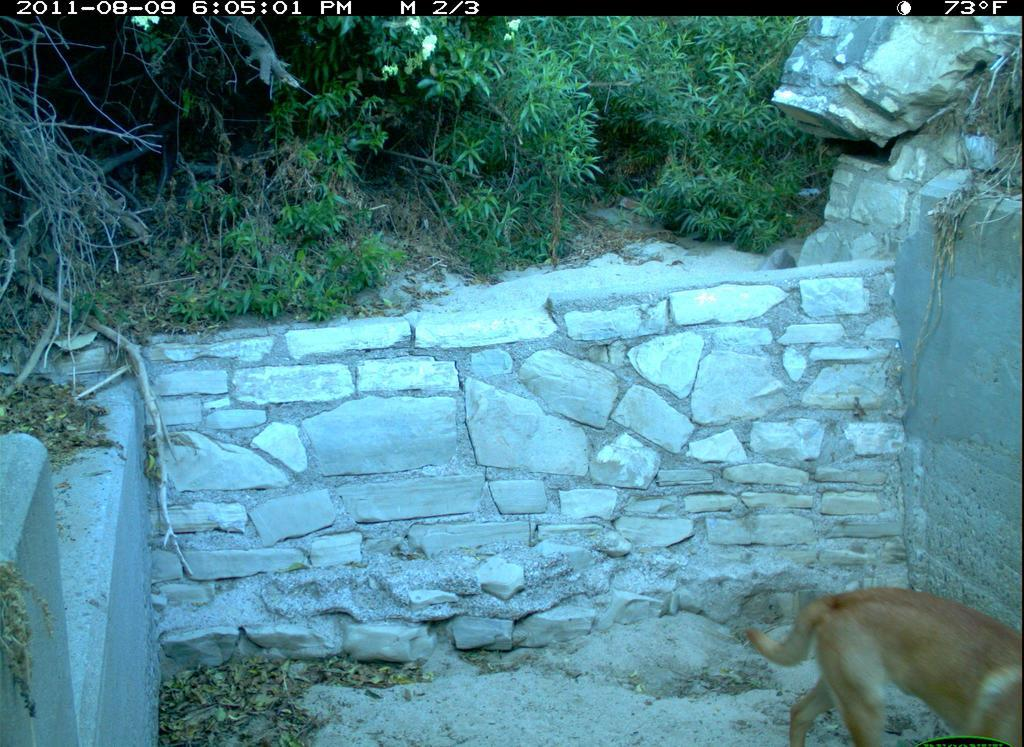dog: (715, 560, 1023, 744)
